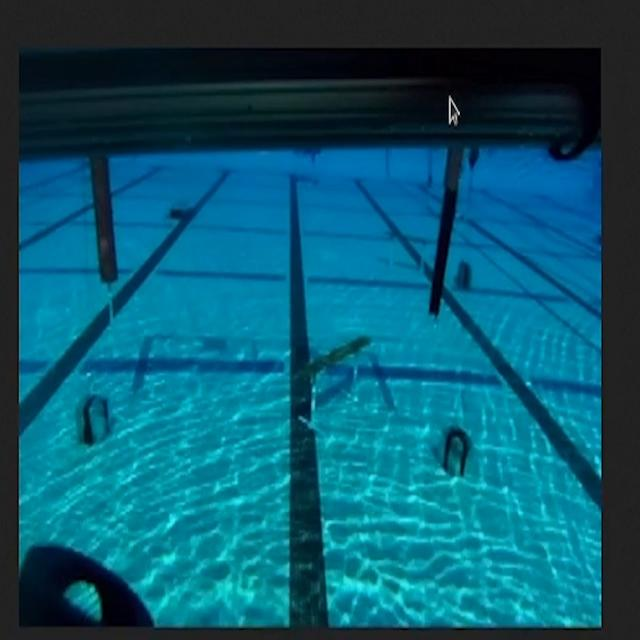Gate: (90, 161, 457, 321)
